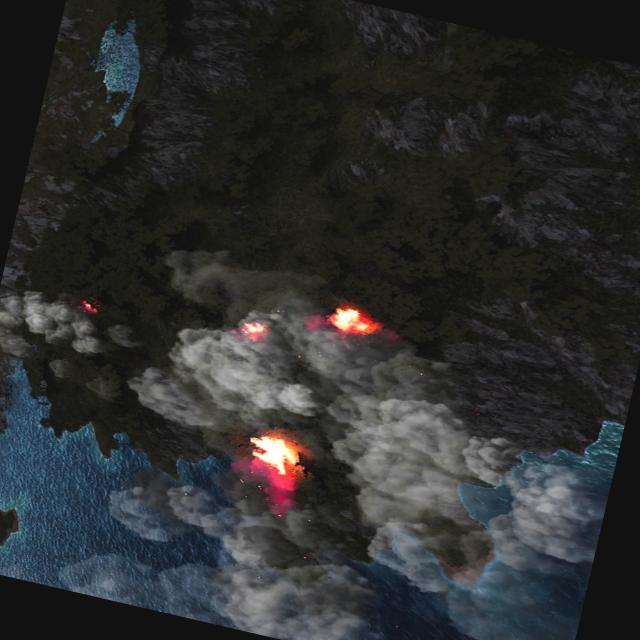fire: (244, 428, 310, 482), (325, 302, 381, 339), (236, 318, 269, 343), (80, 298, 102, 312)
smoke: (56, 231, 640, 640), (0, 282, 111, 385)
